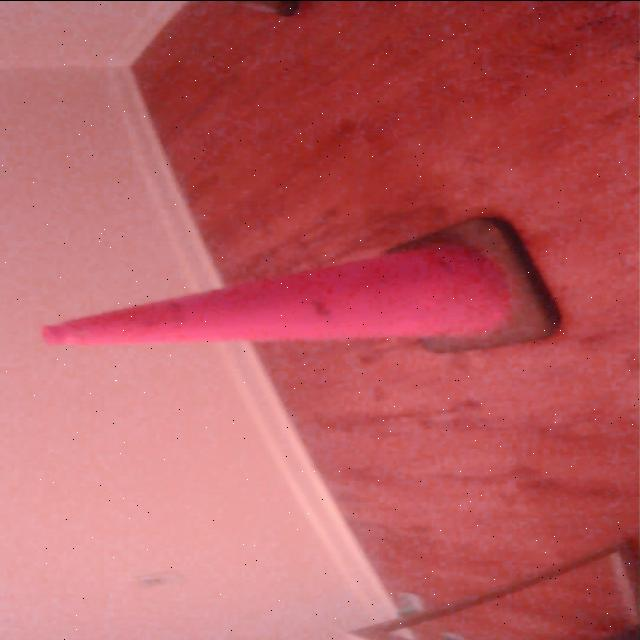traffic cone: (33, 213, 565, 357)
